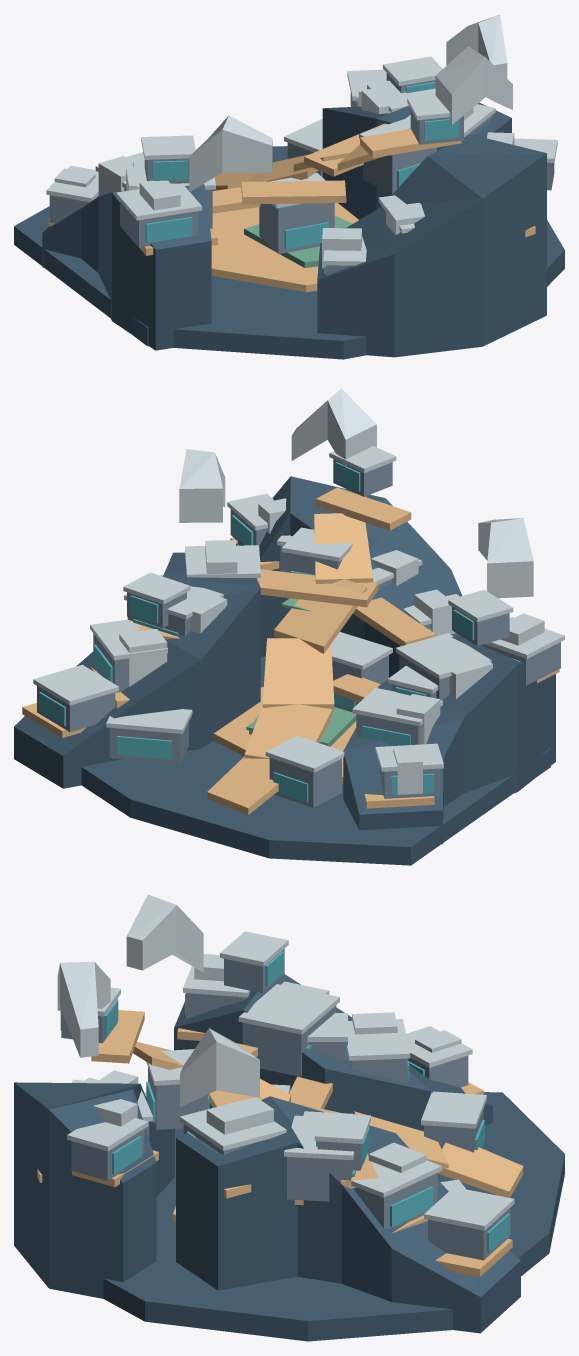
File: a27_delta_civic_city.obj
3 views of the same model, one above another, from view 1: azimuth 30°, elevation 25°; view 2: azimuth 150°, elevation 25°; view 3: azimuth 270°, elevation 25° (orthographic). The views are drawn at different scales.
Size of the model in its own units: 324 by 188 by 317.
